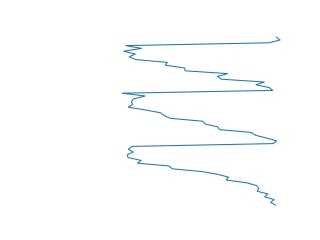distributaryMouthBar: (120, 34, 285, 209)
